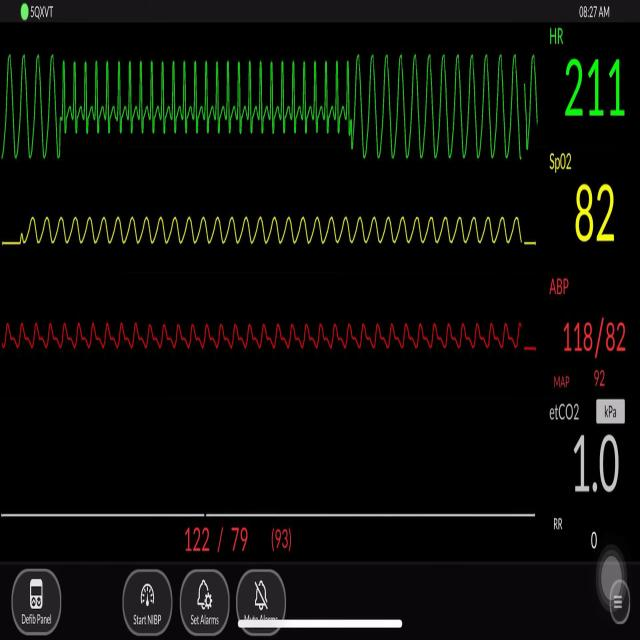danger: (59, 44, 348, 152), (357, 33, 548, 180), (0, 40, 60, 176)
